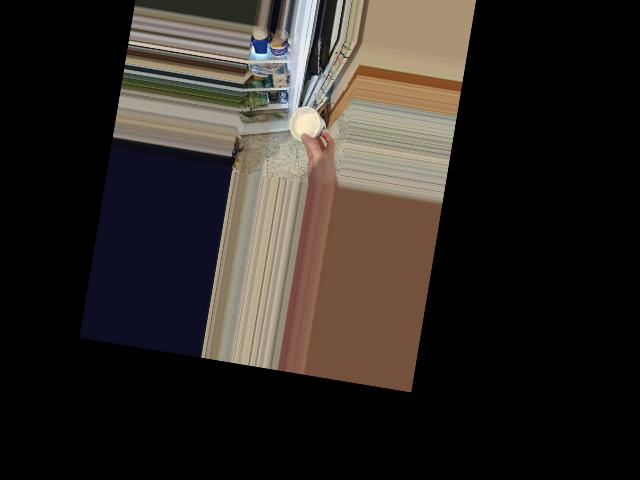cotage: (290, 103, 332, 143)
